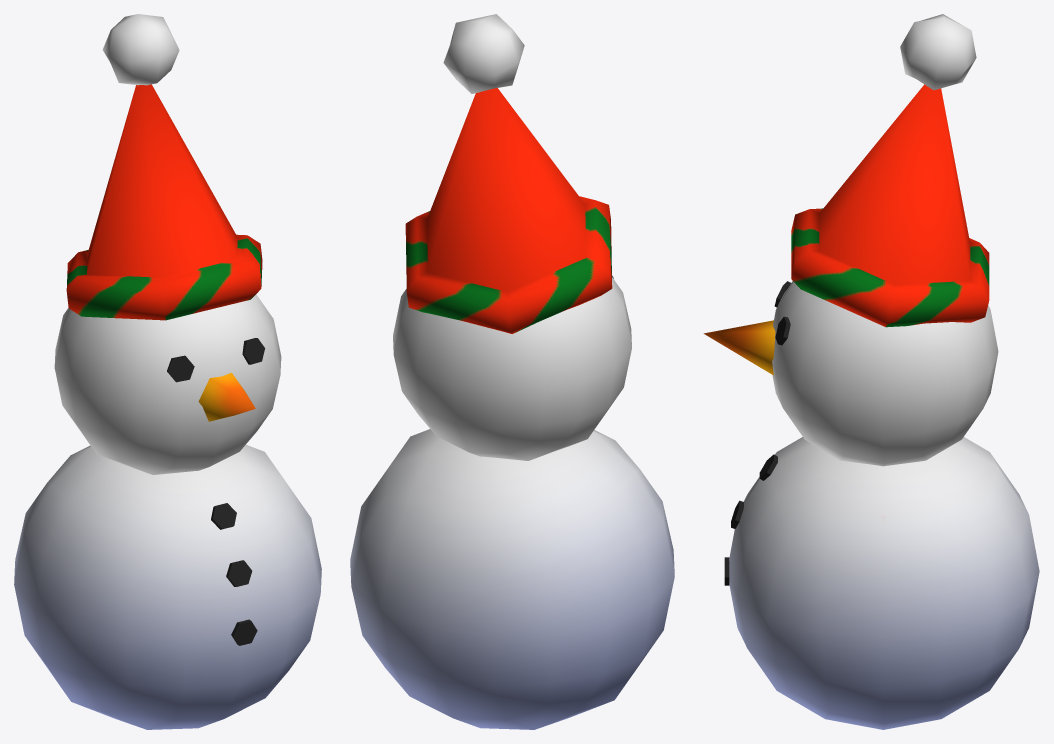
The model's file is ykidaruma_03.fbx.
The picture shows the model from 3 angles, left to right: view 1: azimuth 30°, elevation 25°; view 2: azimuth 150°, elevation 25°; view 3: azimuth 270°, elevation 25°; orthographic projection. The views are drawn at different scales.
Parts seen in each view (by area): view 1: pCube10, pCube11, pCylinder19, pCube12, pSphere1, pCylinder21, pCylinder22, pCylinder23, pCylinder24; view 2: pCube10, pCylinder19, pCube11, pCube12; view 3: pCube10, pCylinder19, pCube11, pCube12, pSphere1.
Part boxes in pixels (bbox=[...]): pCube10: bbox=[14, 444, 321, 729]; pCube11: bbox=[54, 294, 281, 474]; pCylinder19: bbox=[66, 84, 262, 320]; pCube12: bbox=[102, 14, 179, 85]; pSphere1: bbox=[198, 372, 255, 421]; pCylinder21: bbox=[167, 355, 194, 382]; pCylinder22: bbox=[226, 560, 252, 586]; pCylinder23: bbox=[211, 503, 236, 529]; pCylinder24: bbox=[231, 619, 257, 645]; pCube10: bbox=[350, 429, 674, 729]; pCylinder19: bbox=[405, 88, 612, 333]; pCube11: bbox=[393, 277, 631, 460]; pCube12: bbox=[443, 14, 524, 93]; pCube10: bbox=[729, 437, 1039, 729]; pCylinder19: bbox=[791, 84, 989, 327]; pCube11: bbox=[772, 281, 998, 466]; pCube12: bbox=[900, 14, 976, 90]; pSphere1: bbox=[703, 320, 775, 375].
Size of the model in its own units: 0.9338 by 2.29 by 1.
